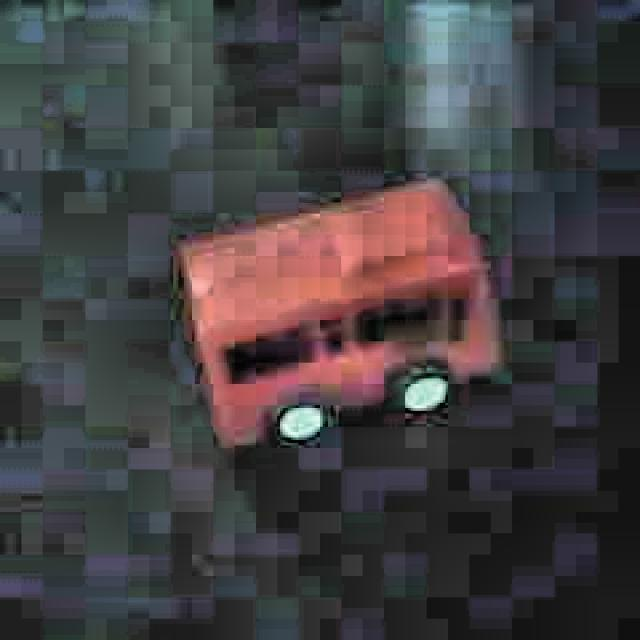bus: (174, 169, 509, 457)
